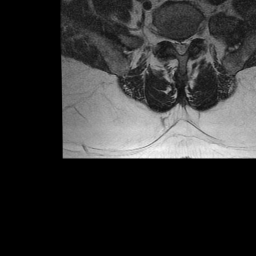CCS_stenosis: (177, 34, 183, 58)
LFS_stenosis: (189, 29, 196, 49)
LLS_normal: (184, 34, 189, 55)
RFS_stenosis: (166, 31, 172, 48)
RLS_normal: (172, 33, 177, 54)
